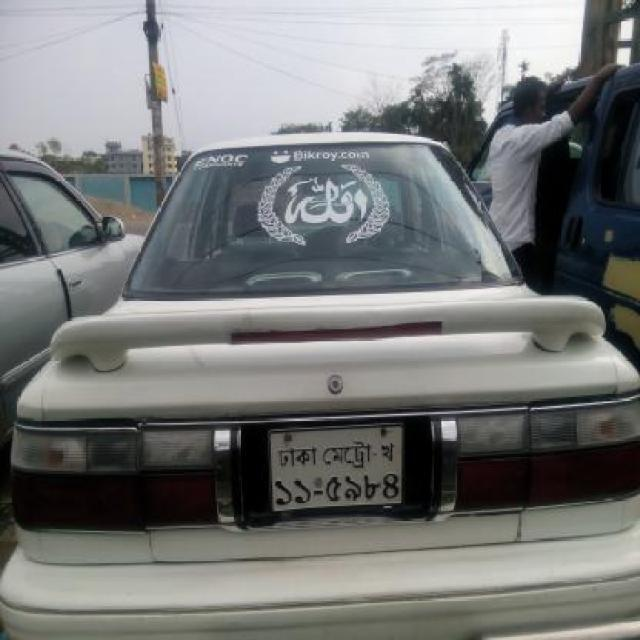numberplate: (265, 420, 408, 515)
